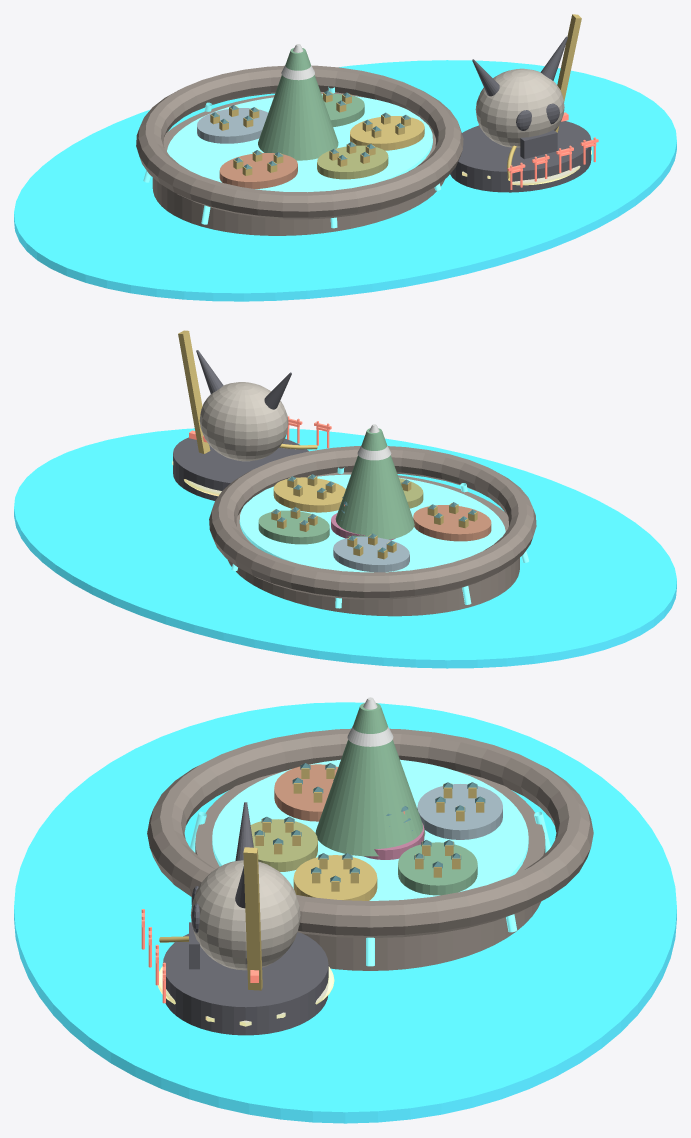
File: wano-onigashima-country-system.glb
3 views of the same model, one above another, from view 1: azimuth 30°, elevation 25°; view 2: azimuth 150°, elevation 25°; view 3: azimuth 270°, elevation 25° (orthographic). The views are drawn at different scales.
Parts seen in each view (by area): view 1: Wano outer ocean, Wano colossal bowl wall, Wano inland sea, Onigashima geographic root, Wano raised bowl base, Mount Fuji lower, Onigashima skull dome, Wano region kuri, Wano region ringo, Wano region kibi, Wano region udon, Onigashima giant katana (+2 smaller); view 2: Wano outer ocean, Wano colossal bowl wall, Wano inland sea, Wano raised bowl base, Onigashima skull dome, Mount Fuji lower, Onigashima geographic root, Wano region kuri, Wano region ringo, Wano region kibi, Wano region hakumai, Onigashima giant katana; view 3: Wano outer ocean, Wano colossal bowl wall, Onigashima geographic root, Wano inland sea, Mount Fuji lower, Wano raised bowl base, Onigashima skull dome, Wano region ringo, Wano region hakumai, Wano region kibi, Wano region kuri, Wano region udon (+2 smaller).
Part boxes in pixels (x1=…): Wano outer ocean: x1=14, y1=60, x2=676, y2=301; Wano colossal bowl wall: x1=136, y1=65, x2=463, y2=219; Wano inland sea: x1=167, y1=94, x2=432, y2=192; Onigashima geographic root: x1=450, y1=121, x2=591, y2=192; Wano raised bowl base: x1=152, y1=92, x2=444, y2=235; Mount Fuji lower: x1=258, y1=48, x2=338, y2=160; Onigashima skull dome: x1=475, y1=68, x2=564, y2=147; Wano region kuri: x1=219, y1=153, x2=297, y2=188; Wano region ringo: x1=197, y1=108, x2=268, y2=143; Wano region kibi: x1=350, y1=116, x2=424, y2=150; Wano region udon: x1=317, y1=145, x2=388, y2=179; Onigashima giant katana: x1=555, y1=14, x2=581, y2=132; Wano outer ocean: x1=14, y1=428, x2=676, y2=668; Wano colossal bowl wall: x1=209, y1=446, x2=536, y2=599; Wano inland sea: x1=239, y1=474, x2=505, y2=572; Wano raised bowl base: x1=227, y1=472, x2=519, y2=616; Onigashima skull dome: x1=199, y1=382, x2=288, y2=461; Mount Fuji lower: x1=335, y1=428, x2=414, y2=539; Onigashima geographic root: x1=173, y1=437, x2=308, y2=500; Wano region kuri: x1=413, y1=505, x2=491, y2=541; Wano region ringo: x1=333, y1=536, x2=409, y2=572; Wano region kibi: x1=273, y1=477, x2=345, y2=512; Wano region hakumai: x1=258, y1=510, x2=329, y2=544; Onigashima giant katana: x1=178, y1=330, x2=210, y2=453; Wano outer ocean: x1=14, y1=702, x2=676, y2=1123; Wano colossal bowl wall: x1=147, y1=728, x2=593, y2=937; Onigashima geographic root: x1=163, y1=932, x2=328, y2=1035; Wano inland sea: x1=212, y1=759, x2=528, y2=900; Mount Fuji lower: x1=315, y1=703, x2=425, y2=856; Wano raised bowl base: x1=195, y1=771, x2=545, y2=970; Onigashima skull dome: x1=190, y1=860, x2=300, y2=970; Wano region ringo: x1=417, y1=784, x2=502, y2=839; Wano region hakumai: x1=398, y1=842, x2=477, y2=895; Wano region kibi: x1=293, y1=855, x2=377, y2=900; Wano region kuri: x1=274, y1=764, x2=338, y2=821; Wano region udon: x1=238, y1=819, x2=317, y2=871.
Size of the model in its own units: 38.88 by 10.84 by 26.57.
